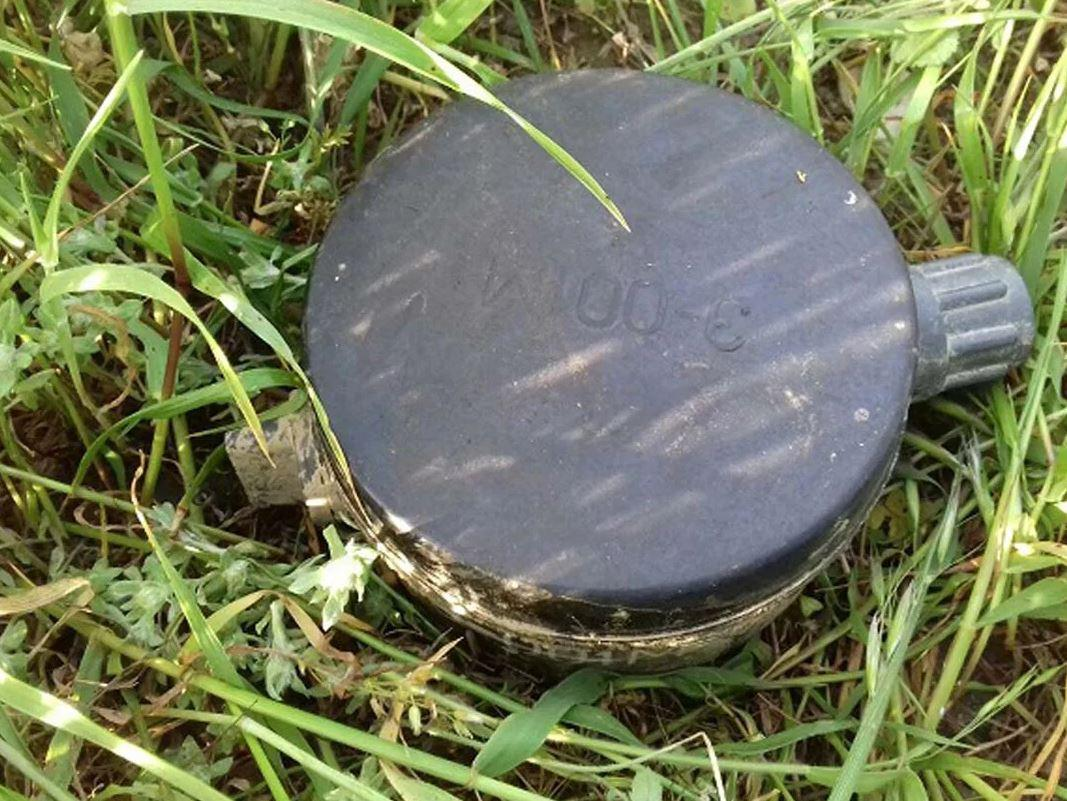pmn: (212, 51, 1045, 703)
